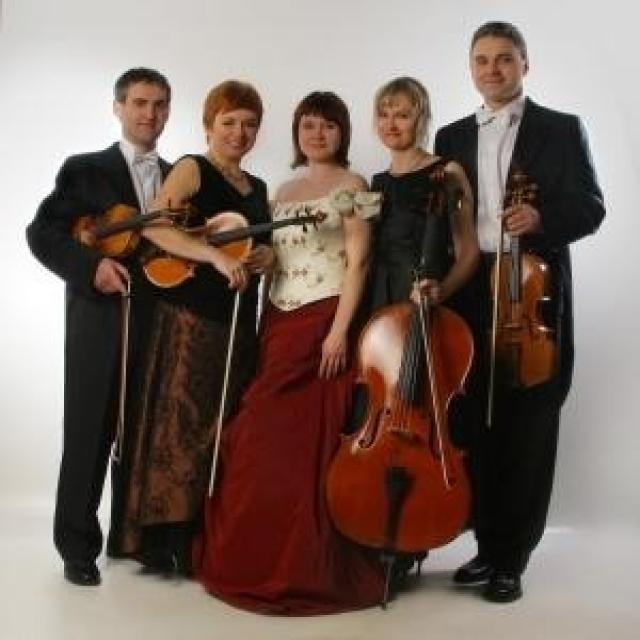cello: (321, 164, 483, 556)
violin: (484, 171, 562, 392), (138, 208, 333, 286), (72, 196, 202, 254)
